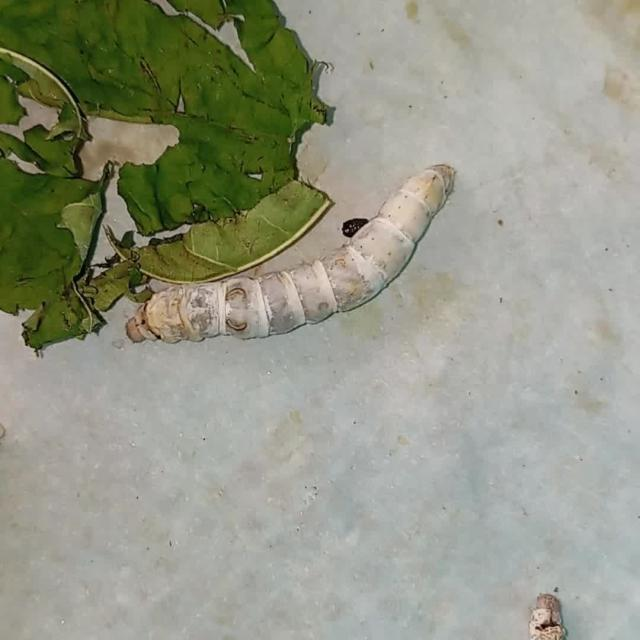Grasserie: (107, 129, 498, 359)
